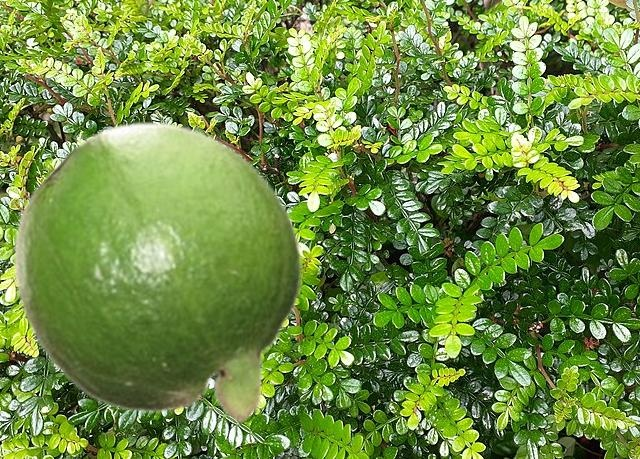guava: (11, 119, 302, 424)
